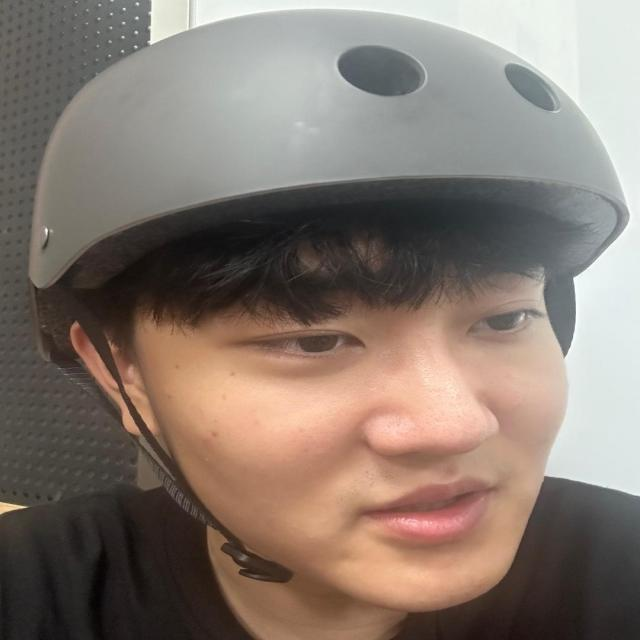Helmet: (34, 11, 629, 612)
